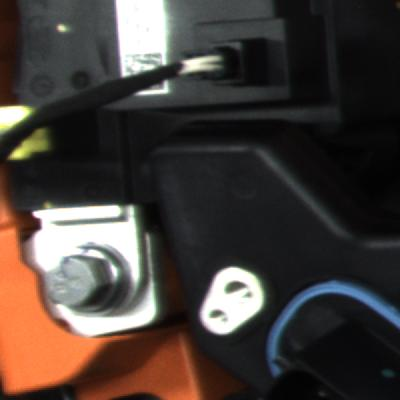nut_b: (37, 235, 133, 324)
